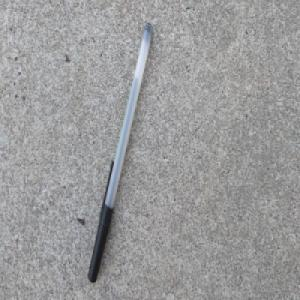Pen: (86, 20, 154, 285)
